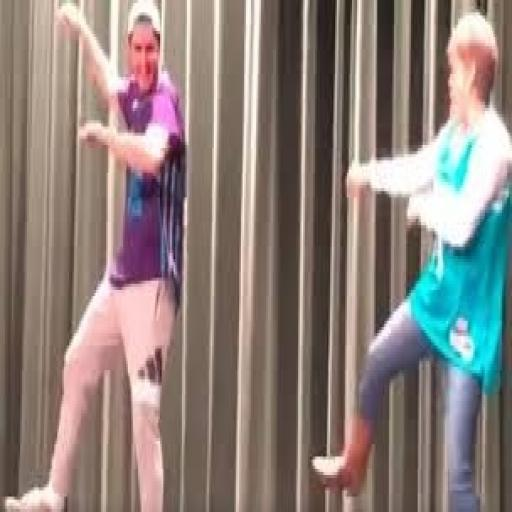dancing: (308, 9, 510, 509), (2, 0, 188, 509)
